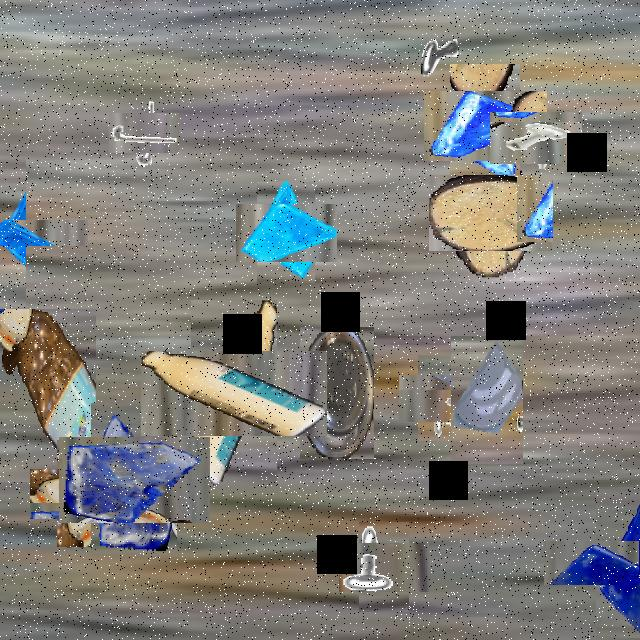glass: (74, 420, 194, 540), (436, 77, 534, 175), (451, 336, 523, 464), (569, 515, 640, 611), (246, 193, 326, 273), (0, 189, 57, 276)
metal: (500, 102, 572, 175), (349, 532, 419, 602), (408, 365, 476, 431), (116, 106, 172, 161), (421, 21, 459, 89)
plastic: (166, 325, 302, 461), (0, 310, 96, 483), (300, 327, 374, 459), (43, 455, 121, 533)
wood: (441, 163, 541, 264)
